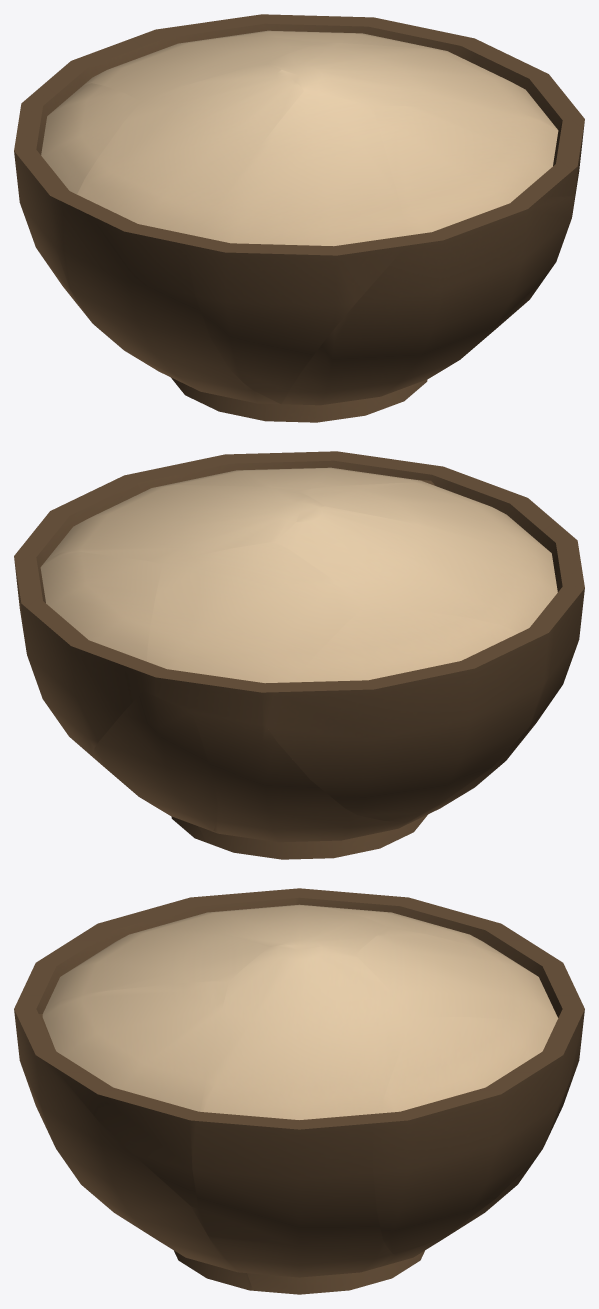
File: Brake_Rice_Blows.FBX
3 renders of one model, top to bottom at view 1: azimuth 30°, elevation 25°; view 2: azimuth 150°, elevation 25°; view 3: azimuth 270°, elevation 25°, orthographic.
Parts seen in each view (by area): view 1: Rice bowls_Part_8, Rice bowls_Part_6, Rice bowls_Part_1, Rice bowls_Part_4, Rice bowls_Part_10, Rice bowls_Part_9, Rice bowls_Part_5, Rice bowls_Part_2; view 2: Rice bowls_Part_9, Rice bowls_Part_5, Rice bowls_Part_8, Rice bowls_Part_2, Rice bowls_Part_10, Rice bowls_Part_7, Rice bowls_Part_6, Rice bowls_Part_3, Rice bowls_Part_4, Rice bowls_Part_1; view 3: Rice bowls_Part_10, Rice bowls_Part_2, Rice bowls_Part_4, Rice bowls_Part_1, Rice bowls_Part_5, Rice bowls_Part_6, Rice bowls_Part_8, Rice bowls_Part_9, Rice bowls_Part_3.
Part boxes in pixels (box(x1,y1,x2,y2)): Rice bowls_Part_8: box(63, 63, 303, 421); Rice bowls_Part_6: box(184, 91, 411, 404); Rice bowls_Part_1: box(283, 196, 574, 422); Rice bowls_Part_4: box(372, 106, 584, 241); Rice bowls_Part_10: box(267, 43, 582, 130); Rice bowls_Part_9: box(14, 65, 140, 313); Rice bowls_Part_5: box(66, 27, 320, 101); Rice bowls_Part_2: box(175, 14, 498, 62); Rice bowls_Part_9: box(266, 606, 554, 822); Rice bowls_Part_5: box(140, 542, 364, 726); Rice bowls_Part_8: box(276, 506, 584, 846); Rice bowls_Part_2: box(14, 541, 162, 757); Rice bowls_Part_10: box(26, 477, 324, 564); Rice bowls_Part_7: box(191, 712, 404, 859); Rice bowls_Part_6: box(298, 477, 580, 568); Rice bowls_Part_3: box(92, 690, 217, 842); Rice bowls_Part_4: box(120, 452, 461, 492); Rice bowls_Part_1: box(308, 451, 471, 485); Rice bowls_Part_10: box(190, 945, 413, 1294); Rice bowls_Part_2: box(372, 1017, 580, 1255); Rice bowls_Part_4: box(28, 981, 228, 1205); Rice bowls_Part_1: box(14, 993, 253, 1290); Rice bowls_Part_5: box(355, 928, 584, 1033); Rice bowls_Part_6: box(21, 913, 269, 1009); Rice bowls_Part_8: box(135, 890, 391, 955); Rice bowls_Part_9: box(281, 888, 555, 968); Rice bowls_Part_3: box(357, 1030, 582, 1287).
Bounding box in the file's own units: 11.08 × 6.19 × 11.08.
Materials: 1 (1 with a texture image).
